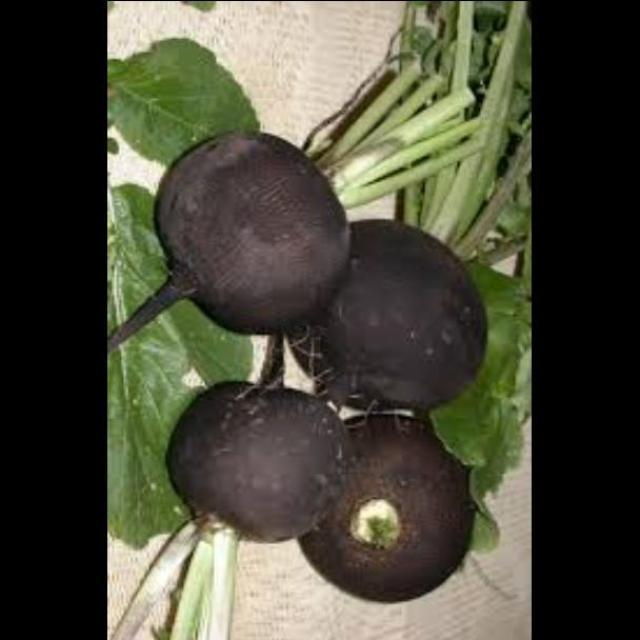redka: (123, 130, 349, 339), (277, 217, 491, 408), (298, 412, 478, 608), (167, 376, 355, 556)
